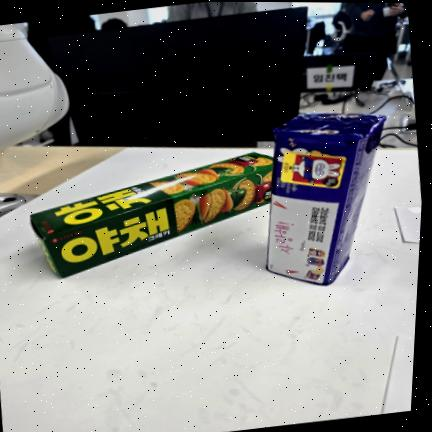cracker_ace: (266, 113, 384, 285)
cracker_vege: (30, 152, 272, 277)
